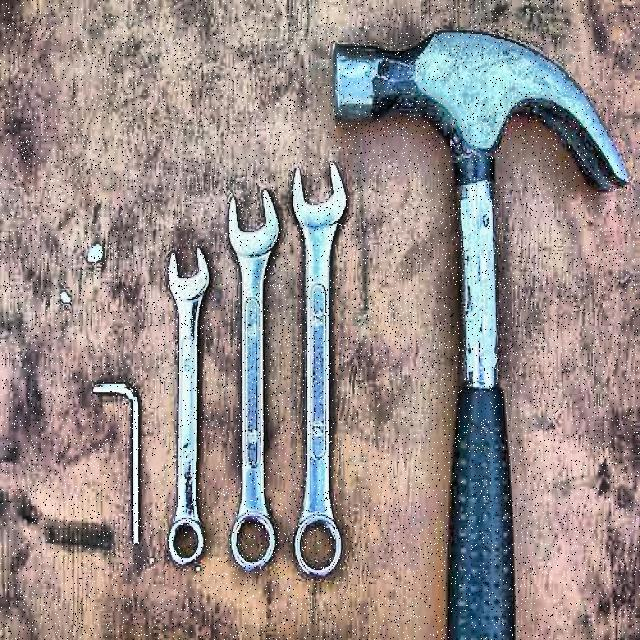hammer: (331, 26, 631, 640)
